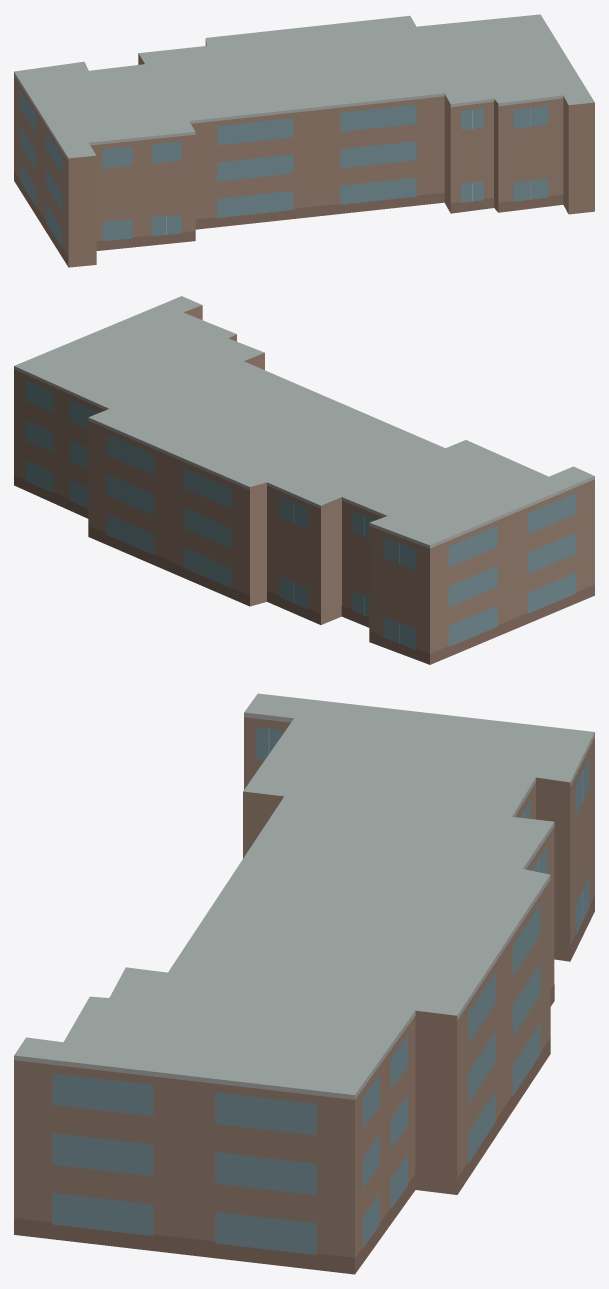
File: survey-upis-32957102.glb
3 views of the same model, one above another, from view 1: azimuth 30°, elevation 25°; view 2: azimuth 150°, elevation 25°; view 3: azimuth 270°, elevation 25° (orthographic). The views are drawn at different scales.
Parts seen in each view (by area): view 1: survey-upis-32957102.tmp; view 2: survey-upis-32957102.tmp; view 3: survey-upis-32957102.tmp.
Boxes of the visible parts, x1,y1,x2,y2 form: survey-upis-32957102.tmp: (14,14,594,267); survey-upis-32957102.tmp: (14,296,594,664); survey-upis-32957102.tmp: (14,693,594,1274).
Size of the model in its own units: 43.98 by 9.15 by 26.87.
